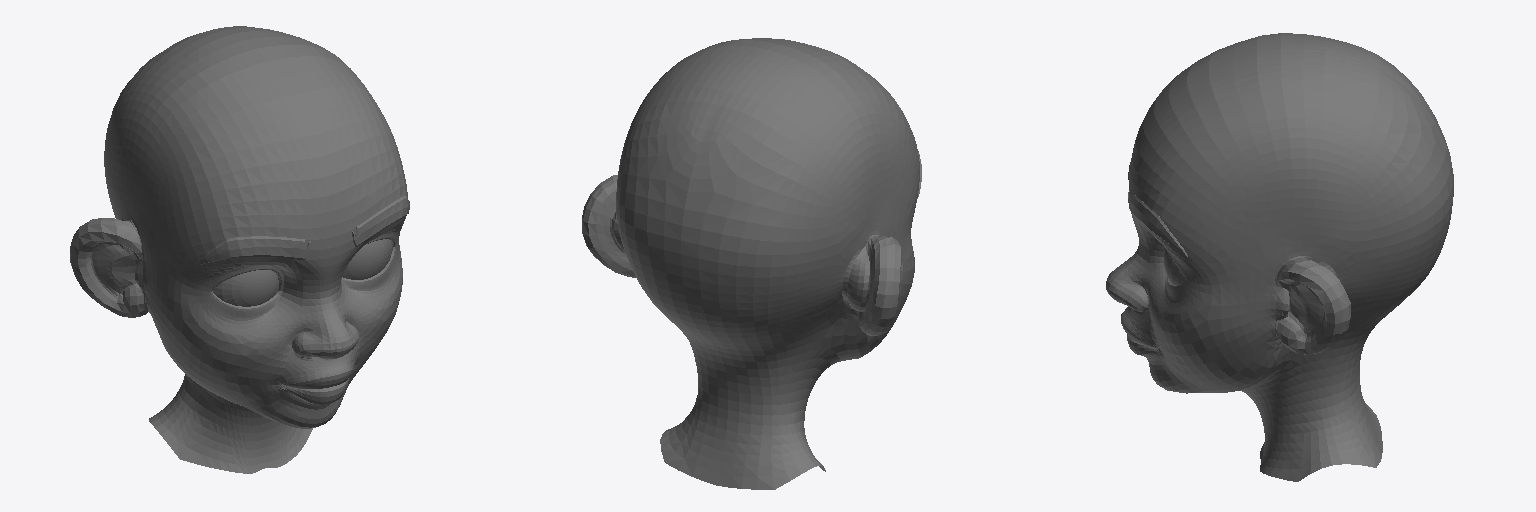
The model's file is rain_head.obj.
The picture shows the model from 3 angles: view 1: azimuth 30°, elevation 25°; view 2: azimuth 150°, elevation 25°; view 3: azimuth 270°, elevation 25°; orthographic projection.
Parts seen in each view (by area): view 1: rain_head_rain_head_Mesh1; view 2: rain_head_rain_head_Mesh1; view 3: rain_head_rain_head_Mesh1.
Boxes of the visible parts, box(x1,y1,x2,y2) form: rain_head_rain_head_Mesh1: box(70, 26, 409, 473); rain_head_rain_head_Mesh1: box(582, 38, 921, 489); rain_head_rain_head_Mesh1: box(1106, 33, 1453, 481).
Bounding box in the file's own units: 19.31 × 24.17 × 18.43.